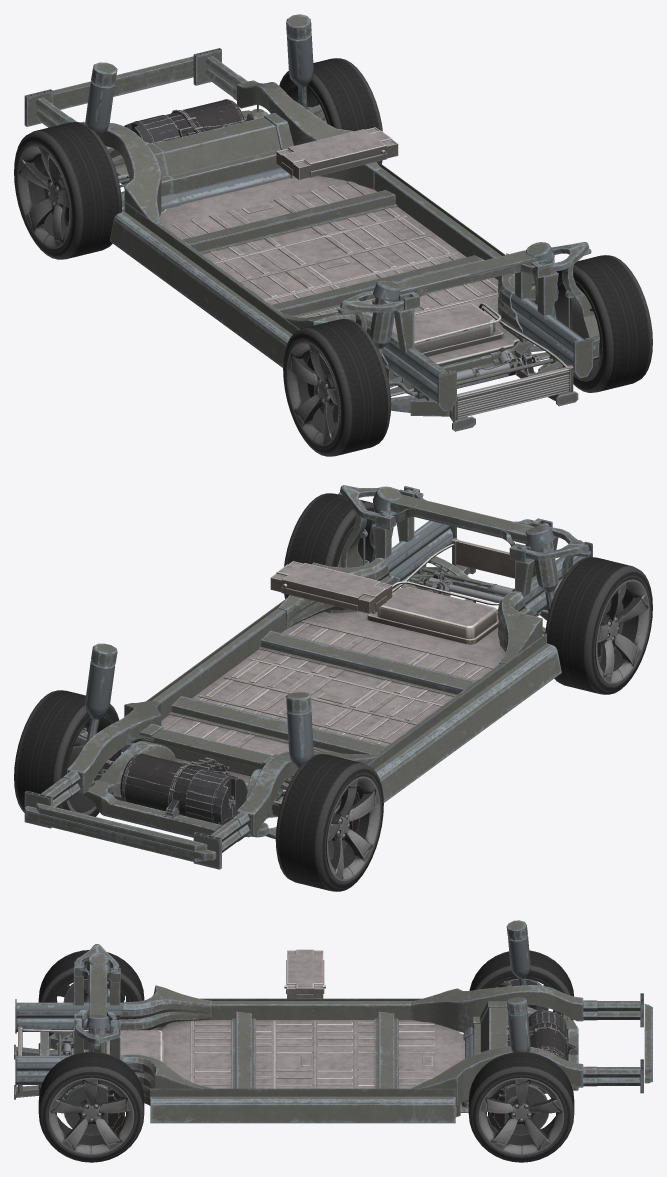
Rendered from tesla_modelx_chassis.glb.
3 renders of one model, top to bottom at view 1: azimuth 30°, elevation 25°; view 2: azimuth 150°, elevation 25°; view 3: azimuth 270°, elevation 25°, orthographic. The views are drawn at different scales.
Visible parts, largest first — view 1: Frame, Wheel_01, BatteryPack, Chassis-01, Gaizi, Chassis-02, BatteryPack_02, Battery-CoolDownSystem, MotorShell, Inverter_shell; view 2: Frame, Wheel_01, BatteryPack, Chassis-02, Chassis-01, BatteryPack_02, Gaizi, Inverter_shell, MotorShell, Battery-CoolDownSystem, GearBox; view 3: Frame, Wheel_01, BatteryPack, Chassis-02, Chassis-01, BatteryPack_02, Gaizi, MotorShell, Inverter_shell.
Part boxes in pixels (x1,y1,x2,y2): Frame: (24, 48, 592, 411); Wheel_01: (14, 58, 652, 456); BatteryPack: (160, 176, 519, 386); Chassis-01: (338, 242, 599, 431); Gaizi: (147, 113, 294, 210); Chassis-02: (58, 14, 327, 212); BatteryPack_02: (276, 127, 398, 179); Battery-CoolDownSystem: (452, 365, 573, 420); MotorShell: (183, 99, 246, 129); Inverter_shell: (124, 115, 180, 143); Frame: (24, 486, 592, 869); Wheel_01: (14, 493, 652, 891); BatteryPack: (161, 587, 505, 793); Chassis-02: (67, 643, 340, 838); Chassis-01: (337, 485, 591, 635); BatteryPack_02: (270, 561, 392, 613); Gaizi: (139, 723, 293, 777); Inverter_shell: (185, 769, 247, 824); MotorShell: (120, 753, 190, 811); Battery-CoolDownSystem: (452, 538, 535, 578); GearBox: (166, 757, 229, 816); Frame: (15, 952, 652, 1123); Wheel_01: (38, 950, 574, 1162); BatteryPack: (106, 1020, 468, 1117); Chassis-02: (461, 920, 578, 1107); Chassis-01: (14, 944, 119, 1099); BatteryPack_02: (284, 949, 325, 998); Gaizi: (463, 1001, 507, 1058); MotorShell: (530, 1029, 567, 1060); Inverter_shell: (528, 1009, 567, 1041).
Bounding box in the file's own units: 0.894 × 0.492 × 2.
4 materials, 4 textured.
